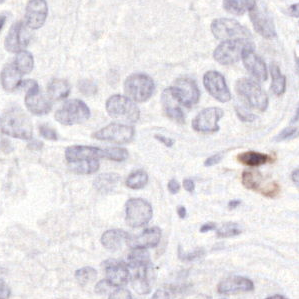Lymphocyte: (237, 151, 274, 167)
